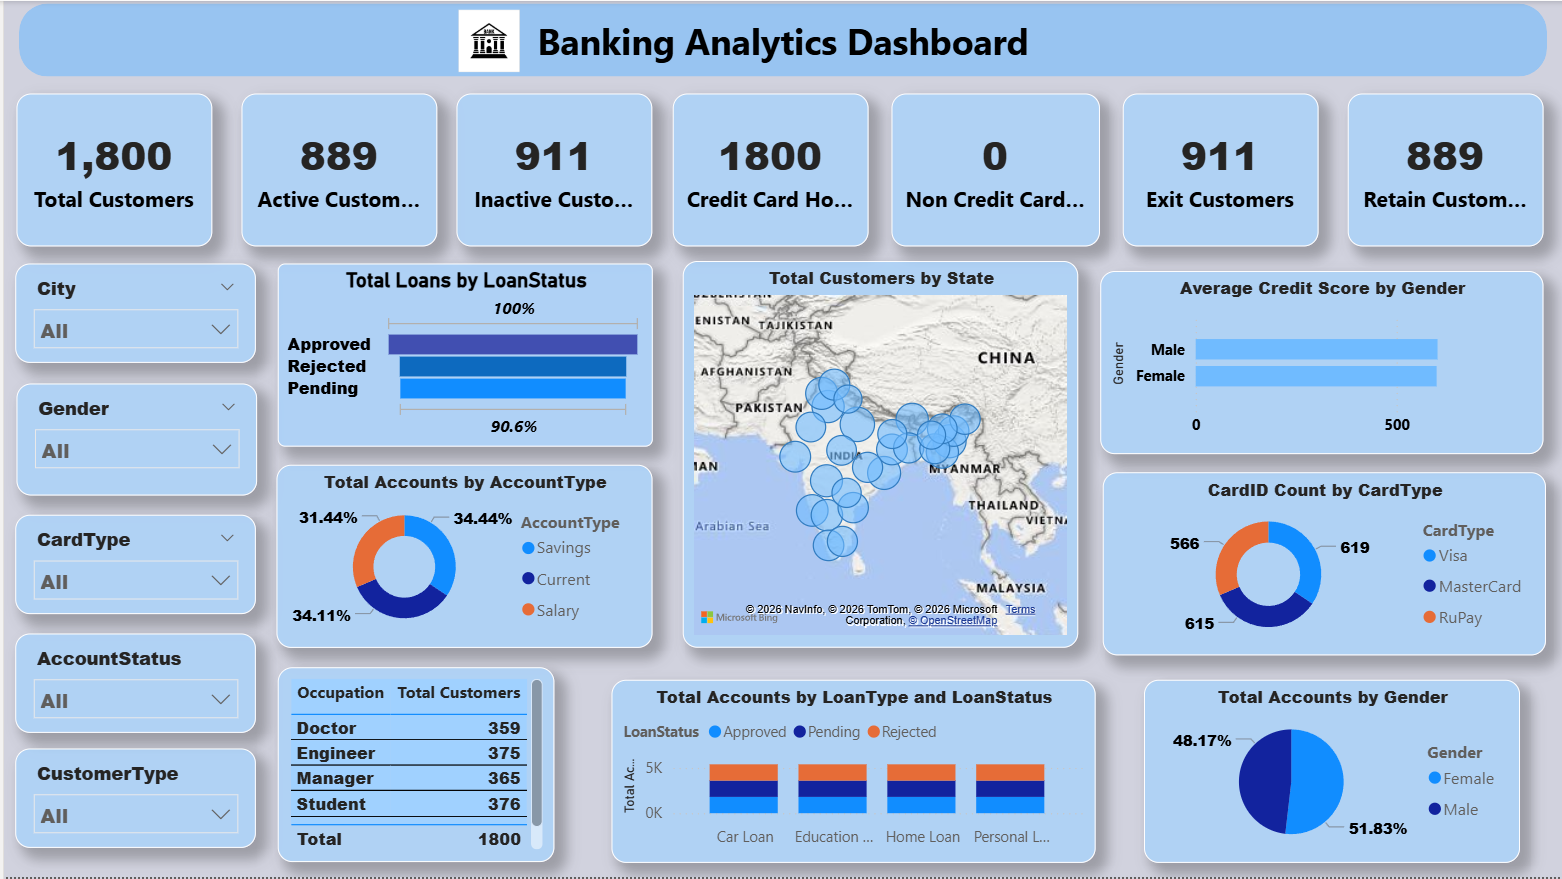

The dashboard page shown, as its layout file describes it:
{"tool":"powerbi","page":{"name":"Page 1","canvas":[1280,720],"ordinal":0},"visuals":[{"type":"shape","box":[12,2,1255,60],"z":0},{"type":"card","fields":{"Values":["Customers.Total Customers"]},"box":[10.5,75.6,160.5,125.6],"z":1000},{"type":"slicer","fields":{"Values":["Customers.City"]},"box":[9.3,215.1,197.7,81.4],"z":2000},{"type":"card","fields":{"Values":["Customers.Active Customers"]},"box":[195.3,75.6,160.5,125.6],"z":3000},{"type":"card","fields":{"Values":["Customers.Inactive Customers"]},"box":[372.1,75.6,160.5,125.6],"z":4000},{"type":"card","fields":{"Values":["CreditCards.Credit Card Holders"]},"box":[548.8,75.6,160.5,125.6],"z":5000},{"type":"card","fields":{"Values":["CreditCards.Non Credit Card Holders"]},"box":[729.1,75.6,170.9,125.6],"z":6000},{"type":"card","fields":{"Values":["Customers.Exit Customers"]},"box":[918.6,75.6,160.5,125.6],"z":7000},{"type":"card","fields":{"Values":["Customers.Retain Customers"]},"box":[1103.5,75.6,160.5,125.6],"z":8000},{"type":"slicer","fields":{"Values":["Customers.Gender"]},"box":[10.5,314,197.7,91.9],"z":9000},{"type":"slicer","fields":{"Values":["CreditCards.CardType"]},"box":[9.3,422.1,197.7,81.4],"z":10000},{"type":"slicer","fields":{"Values":["Customers.AccountStatus"]},"box":[9.3,519.8,197.7,81.4],"z":11000},{"type":"slicer","fields":{"Values":["Customers.CustomerType"]},"box":[9.3,614,197.7,81.4],"z":12000},{"type":"map","fields":{"Category":["Customers.State"],"Size":["Customers.Total Customers"]},"box":[557.5,213.8,325,317.5],"z":13000},{"type":"funnel","fields":{"Category":["Loans.LoanStatus","Accounts.AccountType"],"Y":["Loans.Total Loans"]},"box":[225,215.5,308.3,150],"z":14000},{"type":"donutChart","fields":{"Category":["Accounts.AccountType"],"Y":["Accounts.Total Accounts"]},"box":[223.8,381.2,308.8,150],"z":15000},{"type":"clusteredBarChart","fields":{"Category":["Customers.Gender"],"Y":["Customers.Average Credit Score"]},"box":[900,221.2,363.8,150],"z":16000},{"type":"donutChart","fields":{"Category":["CreditCards.CardType"],"Y":["CreditCards.CardID Count"]},"box":[902.3,387.2,364,150],"z":17000},{"type":"tableEx","fields":{"Values":["Customers.Occupation","Customers.Total Customers"]},"box":[225,547.5,227.5,160],"z":18000},{"type":"columnChart","fields":{"Y":["Accounts.Total Accounts"],"Category":["Loans.LoanType"],"Series":["Loans.LoanStatus"]},"box":[498.8,557.5,397.5,150],"z":19000},{"type":"pieChart","fields":{"Y":["Accounts.Total Accounts"],"Category":["Customers.Gender"]},"box":[936.2,557.5,308.8,150],"z":20000},{"type":"image","box":[248.8,7,300,51.2],"z":21000}]}

Visuals, with their boxes in screenshot pixels (x1, y1, x2, y2), scaled from the page's 1280x720 canvas onto the 1562x879 screenshot:
shape: x1=15, y1=2, x2=1546, y2=76
card - Customers.Total Customers: x1=13, y1=92, x2=209, y2=246
slicer - Customers.City: x1=11, y1=263, x2=253, y2=362
card - Customers.Active Customers: x1=238, y1=92, x2=434, y2=246
card - Customers.Inactive Customers: x1=454, y1=92, x2=650, y2=246
card - CreditCards.Credit Card Holders: x1=670, y1=92, x2=866, y2=246
card - CreditCards.Non Credit Card Holders: x1=890, y1=92, x2=1098, y2=246
card - Customers.Exit Customers: x1=1121, y1=92, x2=1317, y2=246
card - Customers.Retain Customers: x1=1347, y1=92, x2=1542, y2=246
slicer - Customers.Gender: x1=13, y1=383, x2=254, y2=496
slicer - CreditCards.CardType: x1=11, y1=515, x2=253, y2=615
slicer - Customers.AccountStatus: x1=11, y1=635, x2=253, y2=734
slicer - Customers.CustomerType: x1=11, y1=750, x2=253, y2=849
map - Customers.State x Customers.Total Customers: x1=680, y1=261, x2=1077, y2=649
funnel - Loans.LoanStatus x Accounts.AccountType: x1=275, y1=263, x2=651, y2=446
donutChart - Accounts.AccountType x Accounts.Total Accounts: x1=273, y1=465, x2=650, y2=649
clusteredBarChart - Customers.Gender x Customers.Average Credit Score: x1=1098, y1=270, x2=1542, y2=453
donutChart - CreditCards.CardType x CreditCards.CardID Count: x1=1101, y1=473, x2=1545, y2=656
tableEx - Customers.Occupation x Customers.Total Customers: x1=275, y1=668, x2=552, y2=864
columnChart - Accounts.Total Accounts x Loans.LoanType: x1=609, y1=681, x2=1094, y2=864
pieChart - Accounts.Total Accounts x Customers.Gender: x1=1142, y1=681, x2=1519, y2=864
image: x1=304, y1=9, x2=670, y2=71
